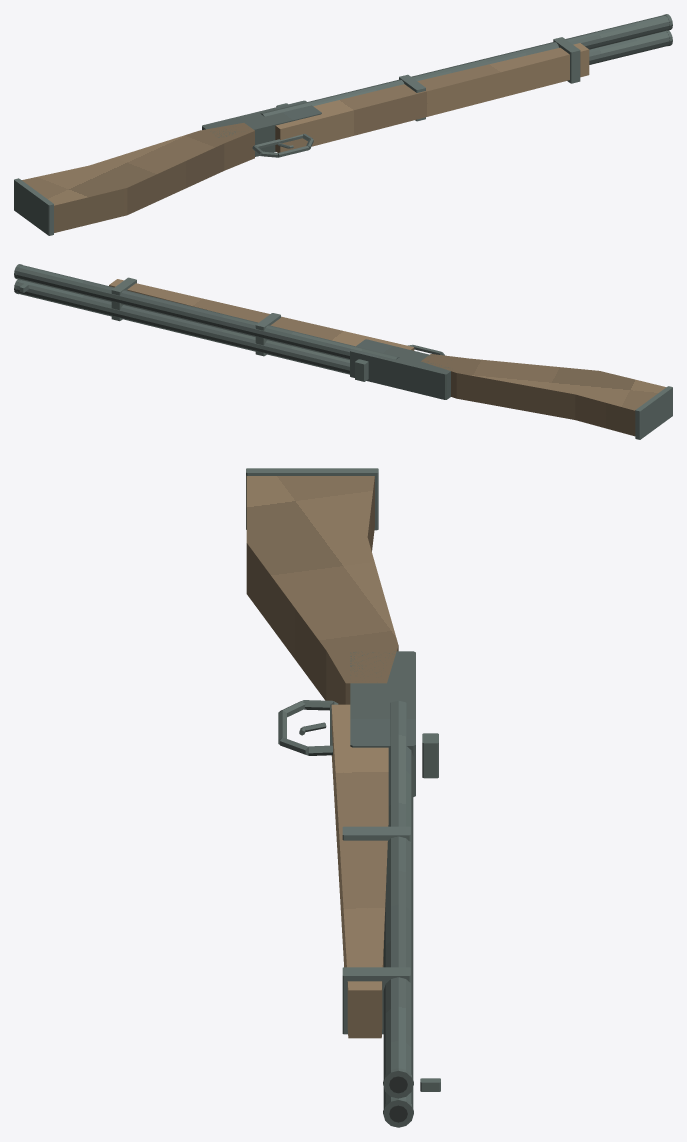
The model's file is weapon-double-shotgun.glb.
3 views of the same model, one above another, from view 1: azimuth 30°, elevation 25°; view 2: azimuth 150°, elevation 25°; view 3: azimuth 270°, elevation 25° (orthographic). The views are drawn at different scales.
Visible parts, largest first — view 1: weapon-double-shotgun/shaped-solid-butt, weapon-double-shotgun/tapered-full-depth-forend, weapon-double-shotgun/paired-barrel--1, weapon-double-shotgun/central-receiver, weapon-double-shotgun/butt-end-plate, weapon-double-shotgun/paired-barrel-1, weapon-double-shotgun/stock-band-1; view 2: weapon-double-shotgun/shaped-solid-butt, weapon-double-shotgun/paired-barrel--1, weapon-double-shotgun/paired-barrel-1, weapon-double-shotgun/central-receiver, weapon-double-shotgun/tapered-full-depth-forend, weapon-double-shotgun/butt-end-plate, weapon-double-shotgun/stock-band-1, weapon-double-shotgun/stock-band-0, weapon-double-shotgun/rear-sight; view 3: weapon-double-shotgun/shaped-solid-butt, weapon-double-shotgun/tapered-full-depth-forend, weapon-double-shotgun/paired-barrel--1, weapon-double-shotgun/central-receiver, weapon-double-shotgun/stock-band-1, weapon-double-shotgun/butt-end-plate, weapon-double-shotgun/stock-band-0.
Boxes of the visible parts, x1,y1,x2,y2 form: weapon-double-shotgun/shaped-solid-butt: (22, 123, 254, 232); weapon-double-shotgun/tapered-full-depth-forend: (275, 43, 589, 152); weapon-double-shotgun/paired-barrel--1: (260, 15, 669, 116); weapon-double-shotgun/central-receiver: (202, 100, 321, 156); weapon-double-shotgun/butt-end-plate: (14, 178, 53, 235); weapon-double-shotgun/paired-barrel-1: (589, 31, 669, 64); weapon-double-shotgun/stock-band-1: (553, 37, 580, 83); weapon-double-shotgun/shaped-solid-butt: (421, 354, 666, 436); weapon-double-shotgun/paired-barrel--1: (17, 265, 399, 359); weapon-double-shotgun/paired-barrel-1: (17, 280, 349, 374); weapon-double-shotgun/central-receiver: (350, 339, 450, 399); weapon-double-shotgun/tapered-full-depth-forend: (109, 279, 414, 350); weapon-double-shotgun/butt-end-plate: (635, 386, 672, 439); weapon-double-shotgun/stock-band-1: (111, 277, 136, 321); weapon-double-shotgun/stock-band-0: (255, 313, 280, 356); weapon-double-shotgun/rear-sight: (355, 359, 368, 381); weapon-double-shotgun/shaped-solid-butt: (246, 476, 398, 704); weapon-double-shotgun/tapered-full-depth-forend: (331, 704, 388, 1038); weapon-double-shotgun/paired-barrel--1: (383, 700, 413, 1079); weapon-double-shotgun/central-receiver: (350, 651, 415, 796); weapon-double-shotgun/stock-band-1: (342, 967, 410, 1034); weapon-double-shotgun/butt-end-plate: (246, 468, 378, 530); weapon-double-shotgun/stock-band-0: (342, 826, 410, 841).
Bounding box in the file's own units: 1.11 × 0.05 × 0.1515.
3 materials, 3 textured.
